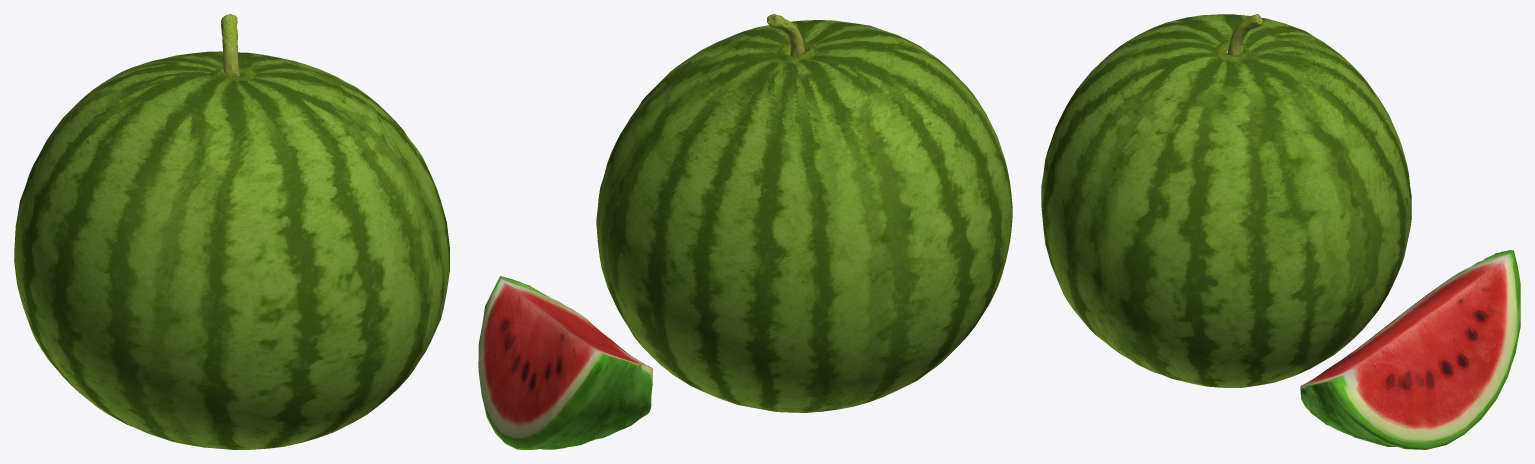
Rendered from watermelon.glb.
3 views of the same model, side by side, from view 1: azimuth 30°, elevation 25°; view 2: azimuth 150°, elevation 25°; view 3: azimuth 270°, elevation 25° (orthographic). The views are drawn at different scales.
Visible parts, largest first — view 1: tripo_node_55991560-a637-4dcc-938c-82d48202dac3; view 2: tripo_node_55991560-a637-4dcc-938c-82d48202dac3; view 3: tripo_node_55991560-a637-4dcc-938c-82d48202dac3.
Part boxes in pixels (<box>): tripo_node_55991560-a637-4dcc-938c-82d48202dac3: <box>14,14,449,449</box>; tripo_node_55991560-a637-4dcc-938c-82d48202dac3: <box>478,14,1012,449</box>; tripo_node_55991560-a637-4dcc-938c-82d48202dac3: <box>1041,14,1520,449</box>.
Bounding box in the file's own units: 0.9512 × 0.8184 × 0.998.
1 material, 1 textured.
